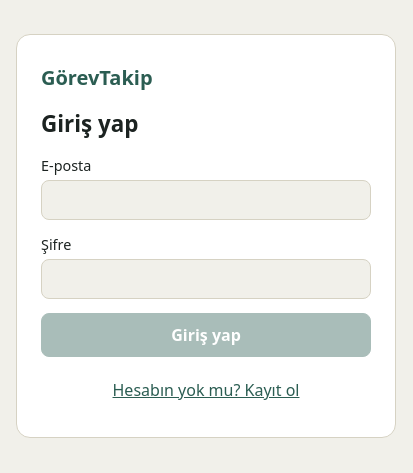
Test: AuthForm: kayıt modu › bağlantı butonu kayıt formuna geçirir; şifre kuralı ipucu görünür
Click the button "Hesabın yok mu? Kayıt ol": (206, 390) [41,371,371,409]
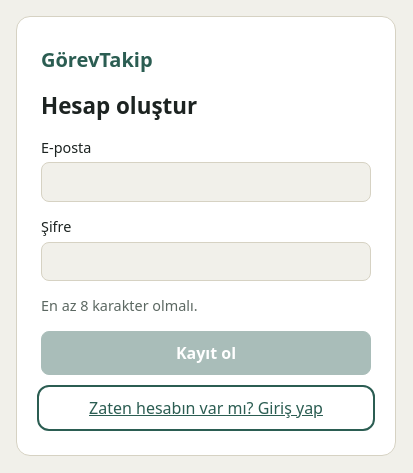
Now the heading "Hesap oluştur" is shown, box [41,90,197,121]
Now the button "Kayıt ol" is shown, box [41,331,371,375]
